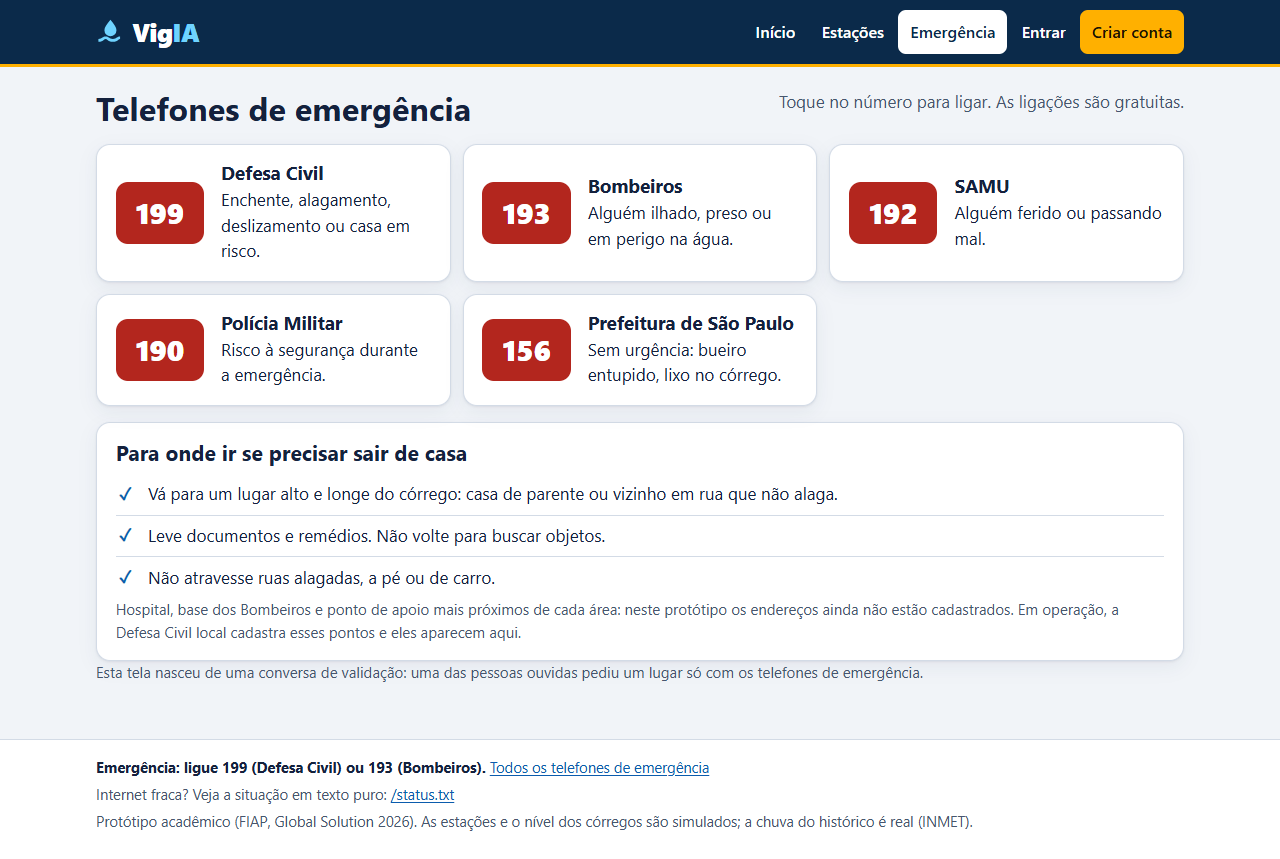

What the dashboard file says about the page in this screenshot:
{"tool":"powerbi","page":{"name":"Página 1","canvas":[1920,1080],"ordinal":0},"visuals":[{"type":"htmlContent443BE3AD55E043BF878BED274D3A6855","fields":{"content":["Medidas.VigIA Painel HTML"]},"box":[0,0,1920,1079.6],"z":0},{"type":"slicer","fields":{"Values":["dim_data.data"]},"box":[42.3,134.2,300.5,52.5],"z":1},{"type":"slicer","fields":{"Values":["dim_estacao.nome"]},"box":[367.7,137.1,356,52.5],"z":2}]}

Visuals, with their boxes on the page's 1920x1080 design canvas (x1, y1, x2, y2). These are canvas units, not pixel positions in the 1280x859 screenshot, which may show the page scaled, cropped or inside an application window:
htmlContent443BE3AD55E043BF878BED274D3A6855 - Medidas.VigIA Painel HTML: locate(0, 0, 1920, 1080)
slicer - dim_data.data: locate(42, 134, 343, 187)
slicer - dim_estacao.nome: locate(368, 137, 724, 190)
